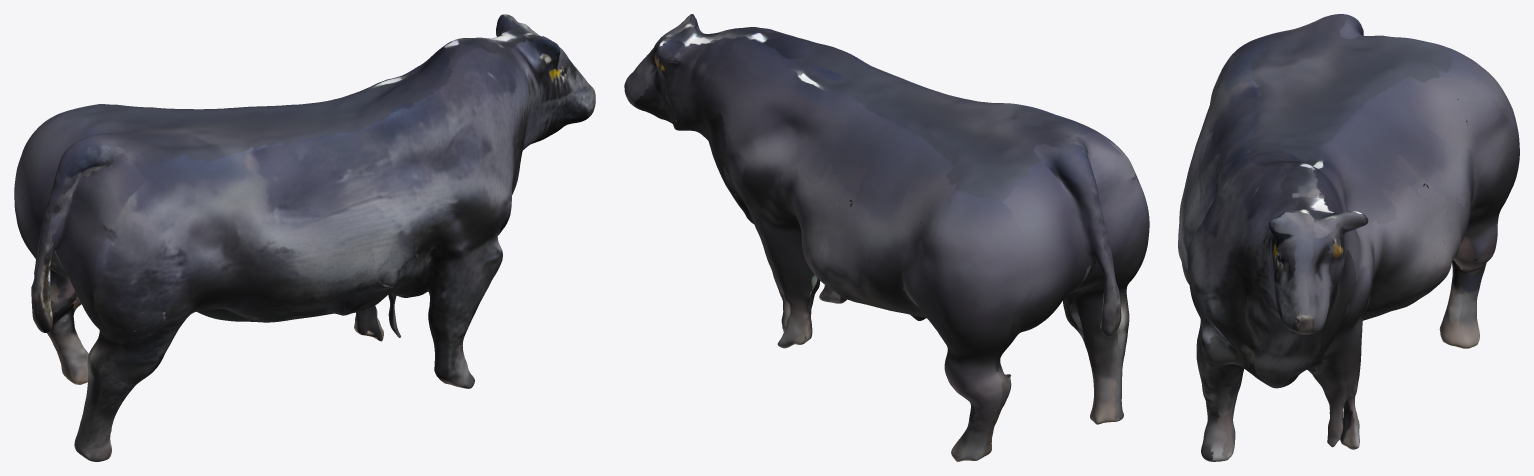
Rendered from adulto.glb.
3 renders of one model, left to right at view 1: azimuth 30°, elevation 25°; view 2: azimuth 150°, elevation 25°; view 3: azimuth 270°, elevation 25°, orthographic. The views are drawn at different scales.
Visible parts, largest first — view 1: mesh; view 2: mesh; view 3: mesh.
Part boxes in pixels (box(x1,y1,x2,y2)): mesh: box(14, 14, 595, 461); mesh: box(624, 14, 1149, 461); mesh: box(1178, 14, 1519, 461).
Size of the model in its own units: 1.85 by 1.06 by 0.9859.
1 material, 1 textured.
